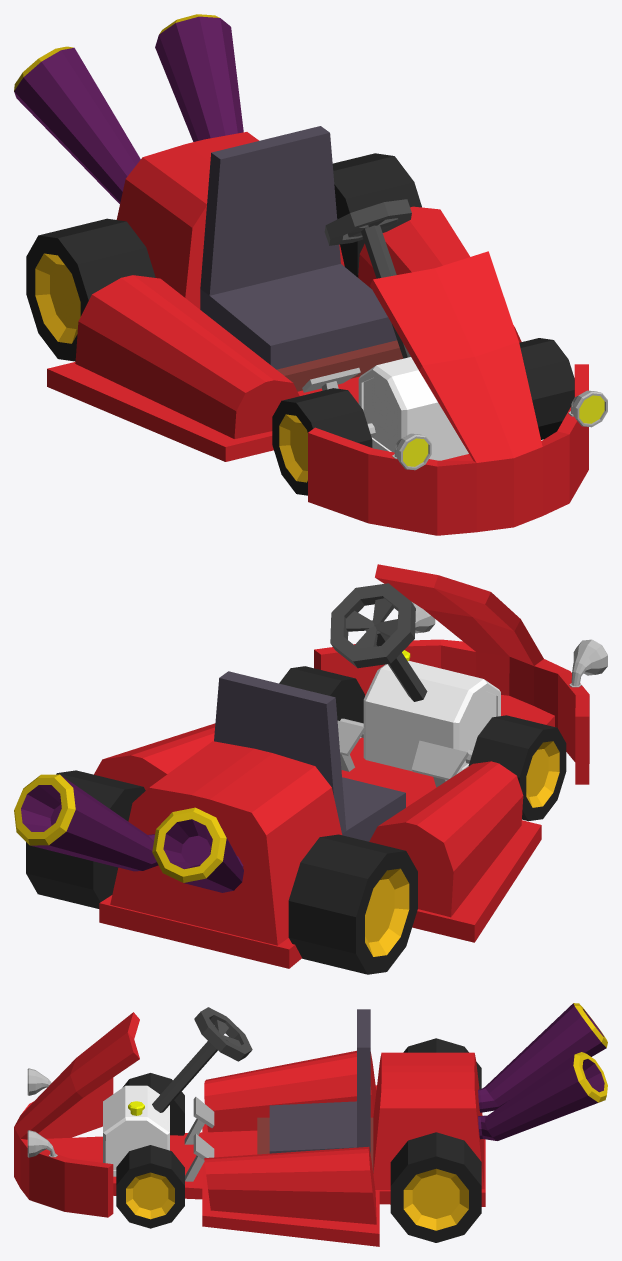
File: RedKart.glb
3 views of the same model, one above another, from view 1: azimuth 30°, elevation 25°; view 2: azimuth 150°, elevation 25°; view 3: azimuth 270°, elevation 25° (orthographic). The views are drawn at different scales.
Visible parts, largest first — view 1: KartPlataform1, Hood1, Chair1, Catalysts1, Wheel_BR, Wheel_FR, Wheel_BL, Wheel_FL, SteeringWheel1, Lights_Kart1, Pedals1; view 2: KartPlataform1, Hood1, Wheel_BR, Catalysts1, Chair1, SteeringWheel1, Wheel_FR, Wheel_BL, Pedals1, Wheel_FL, Lights_Kart1; view 3: KartPlataform1, Hood1, Catalysts1, Wheel_BL, Chair1, Wheel_FL, SteeringWheel1, Pedals1, Wheel_FR, Lights_Kart1, Wheel_BR.
Boxes of the visible parts, x1,y1,x2,y2 form: KartPlataform1: (47,132,521,461); Hood1: (308,251,588,535); Chair1: (200,126,403,391); Catalysts1: (14,14,243,203); Wheel_BR: (26,218,155,361); Wheel_FR: (272,388,372,495); Wheel_BL: (332,153,421,277); Wheel_FL: (519,338,574,439); SteeringWheel1: (324,199,411,358); Lights_Kart1: (392,390,607,470); Pedals1: (302,367,360,392); KartPlataform1: (94,650,554,968); Hood1: (314,564,589,784); Wheel_BR: (288,834,417,974); Catalysts1: (14,774,243,892); Chair1: (214,671,405,841); SteeringWheel1: (330,583,427,701); Wheel_FR: (468,715,566,821); Wheel_BL: (26,770,145,908); Pedals1: (337,720,468,787); Wheel_FL: (279,666,364,723); Lights_Kart1: (412,602,607,687); KartPlataform1: (45,1050,485,1246); Hood1: (14,1012,139,1217); Catalysts1: (478,1003,607,1140); Wheel_BL: (390,1132,481,1242); Chair1: (257,1009,373,1172); Wheel_FL: (116,1145,184,1228); SteeringWheel1: (152,1007,252,1112); Pedals1: (184,1097,214,1181); Wheel_FR: (122,1073,184,1135); Lights_Kart1: (27,1068,57,1157); Wheel_BR: (403,1038,481,1089).
Size of the model in its own units: 10.53 by 5.62 by 17.74.
